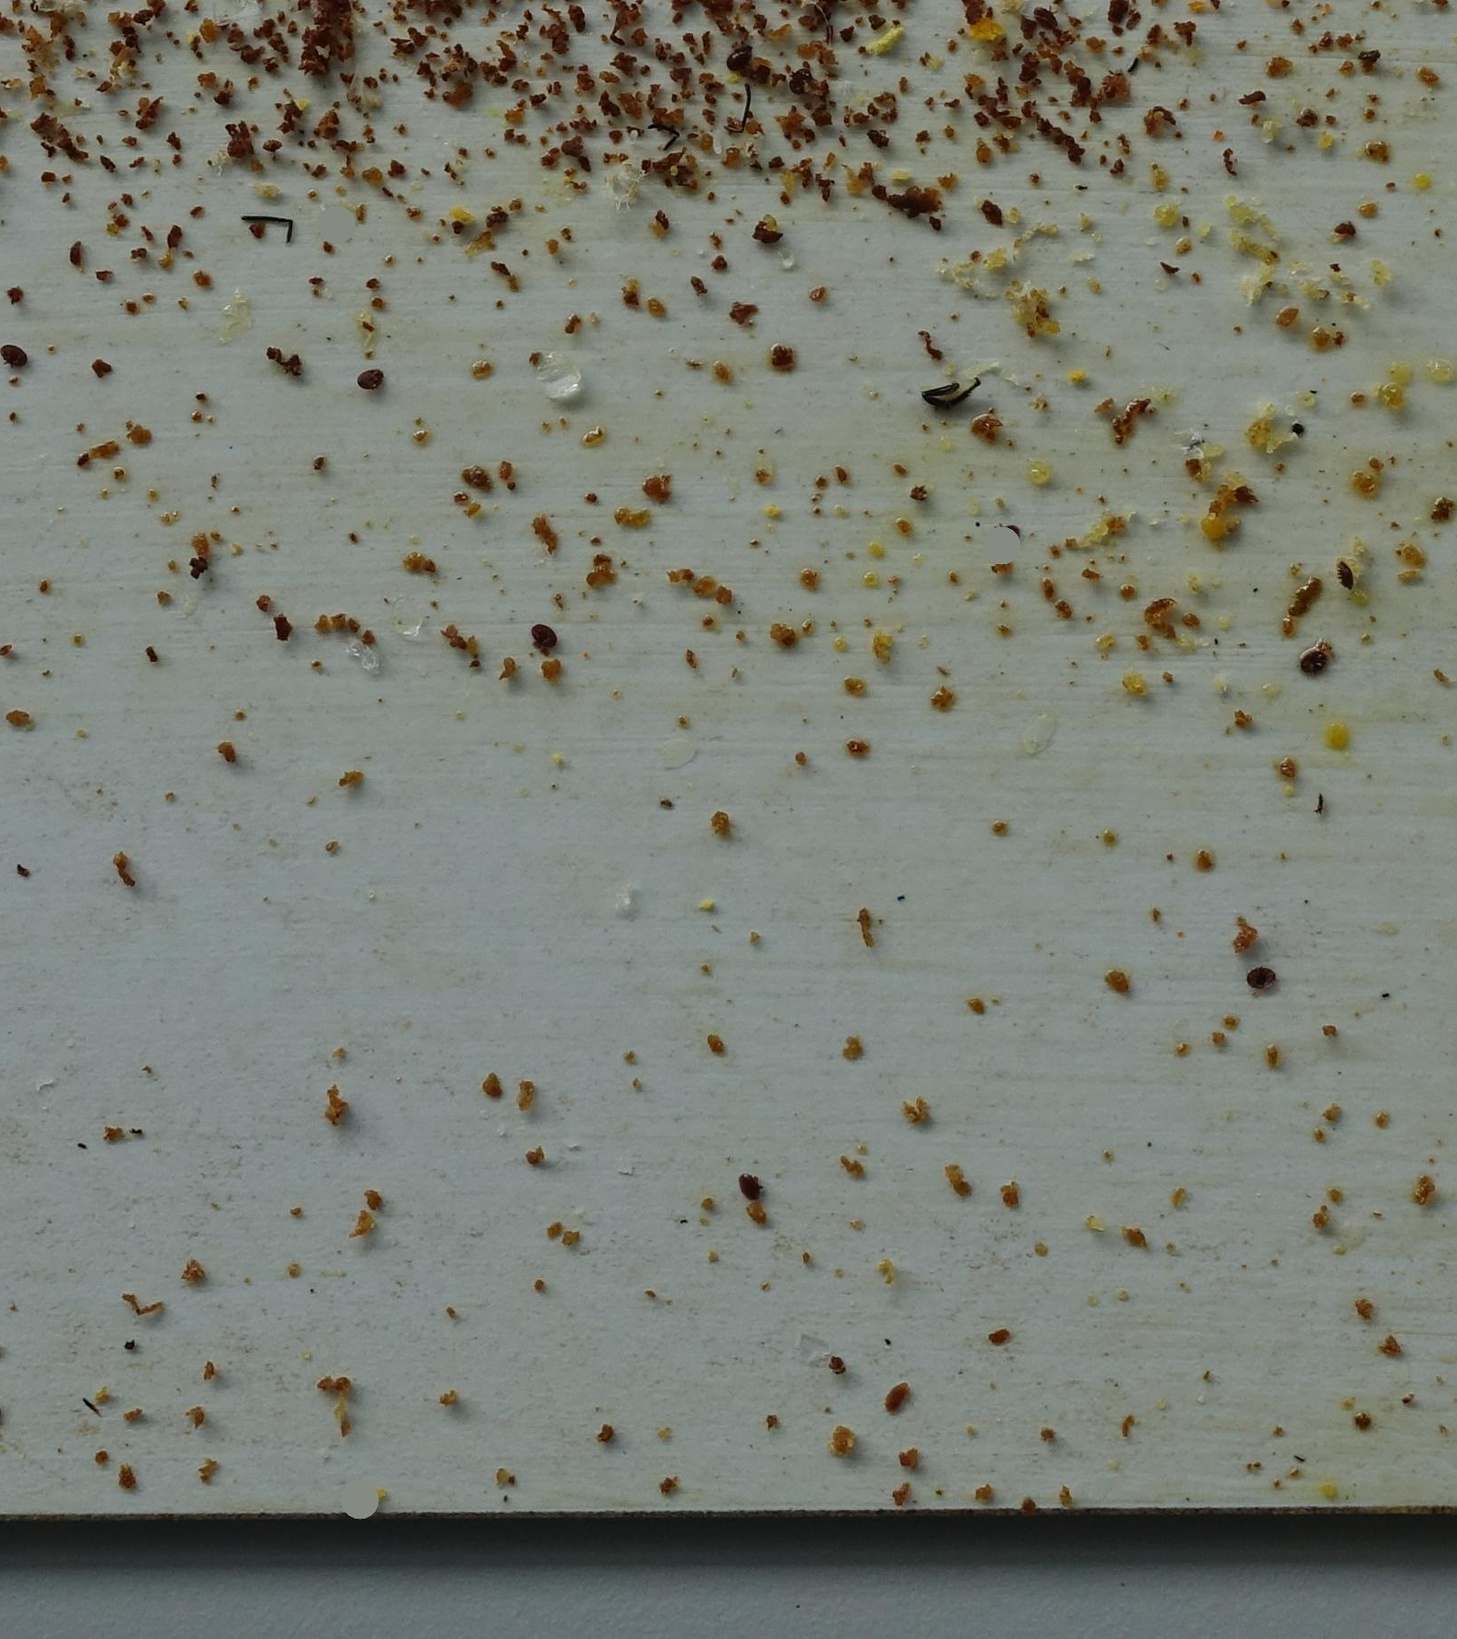Varroa: (781, 60, 819, 100), (740, 1172, 768, 1199), (1332, 566, 1357, 591), (1302, 649, 1328, 672), (4, 345, 27, 371), (359, 363, 383, 385), (1247, 968, 1271, 990), (541, 627, 556, 640), (1001, 528, 1013, 537), (738, 56, 748, 68)
